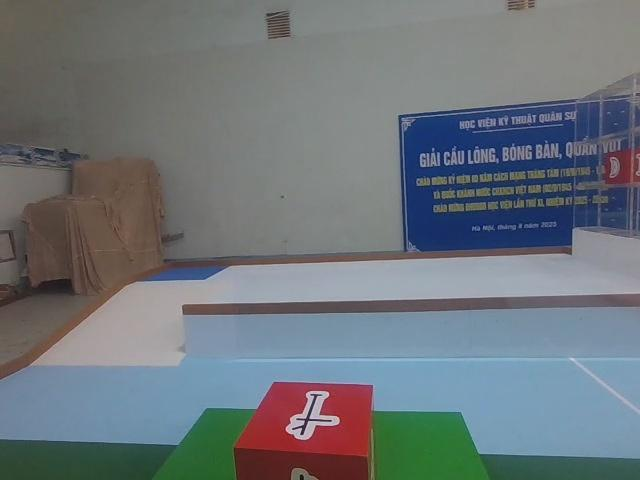R2 Real: (235, 381, 375, 480)
